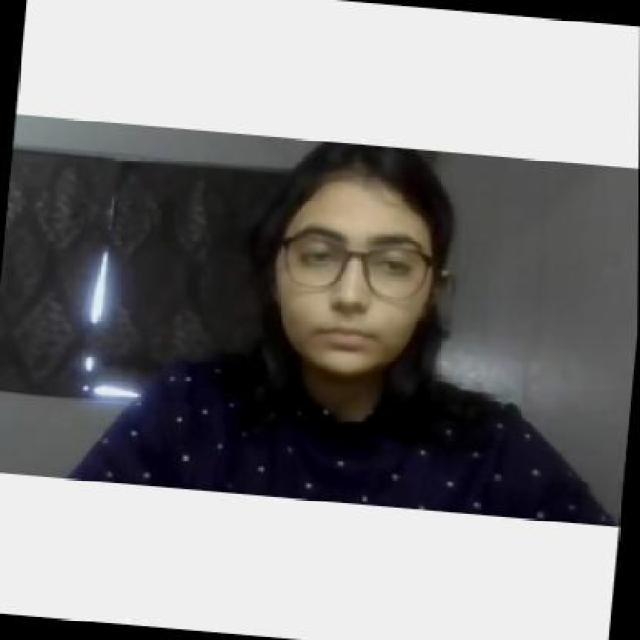inattentif: (257, 137, 455, 383)
